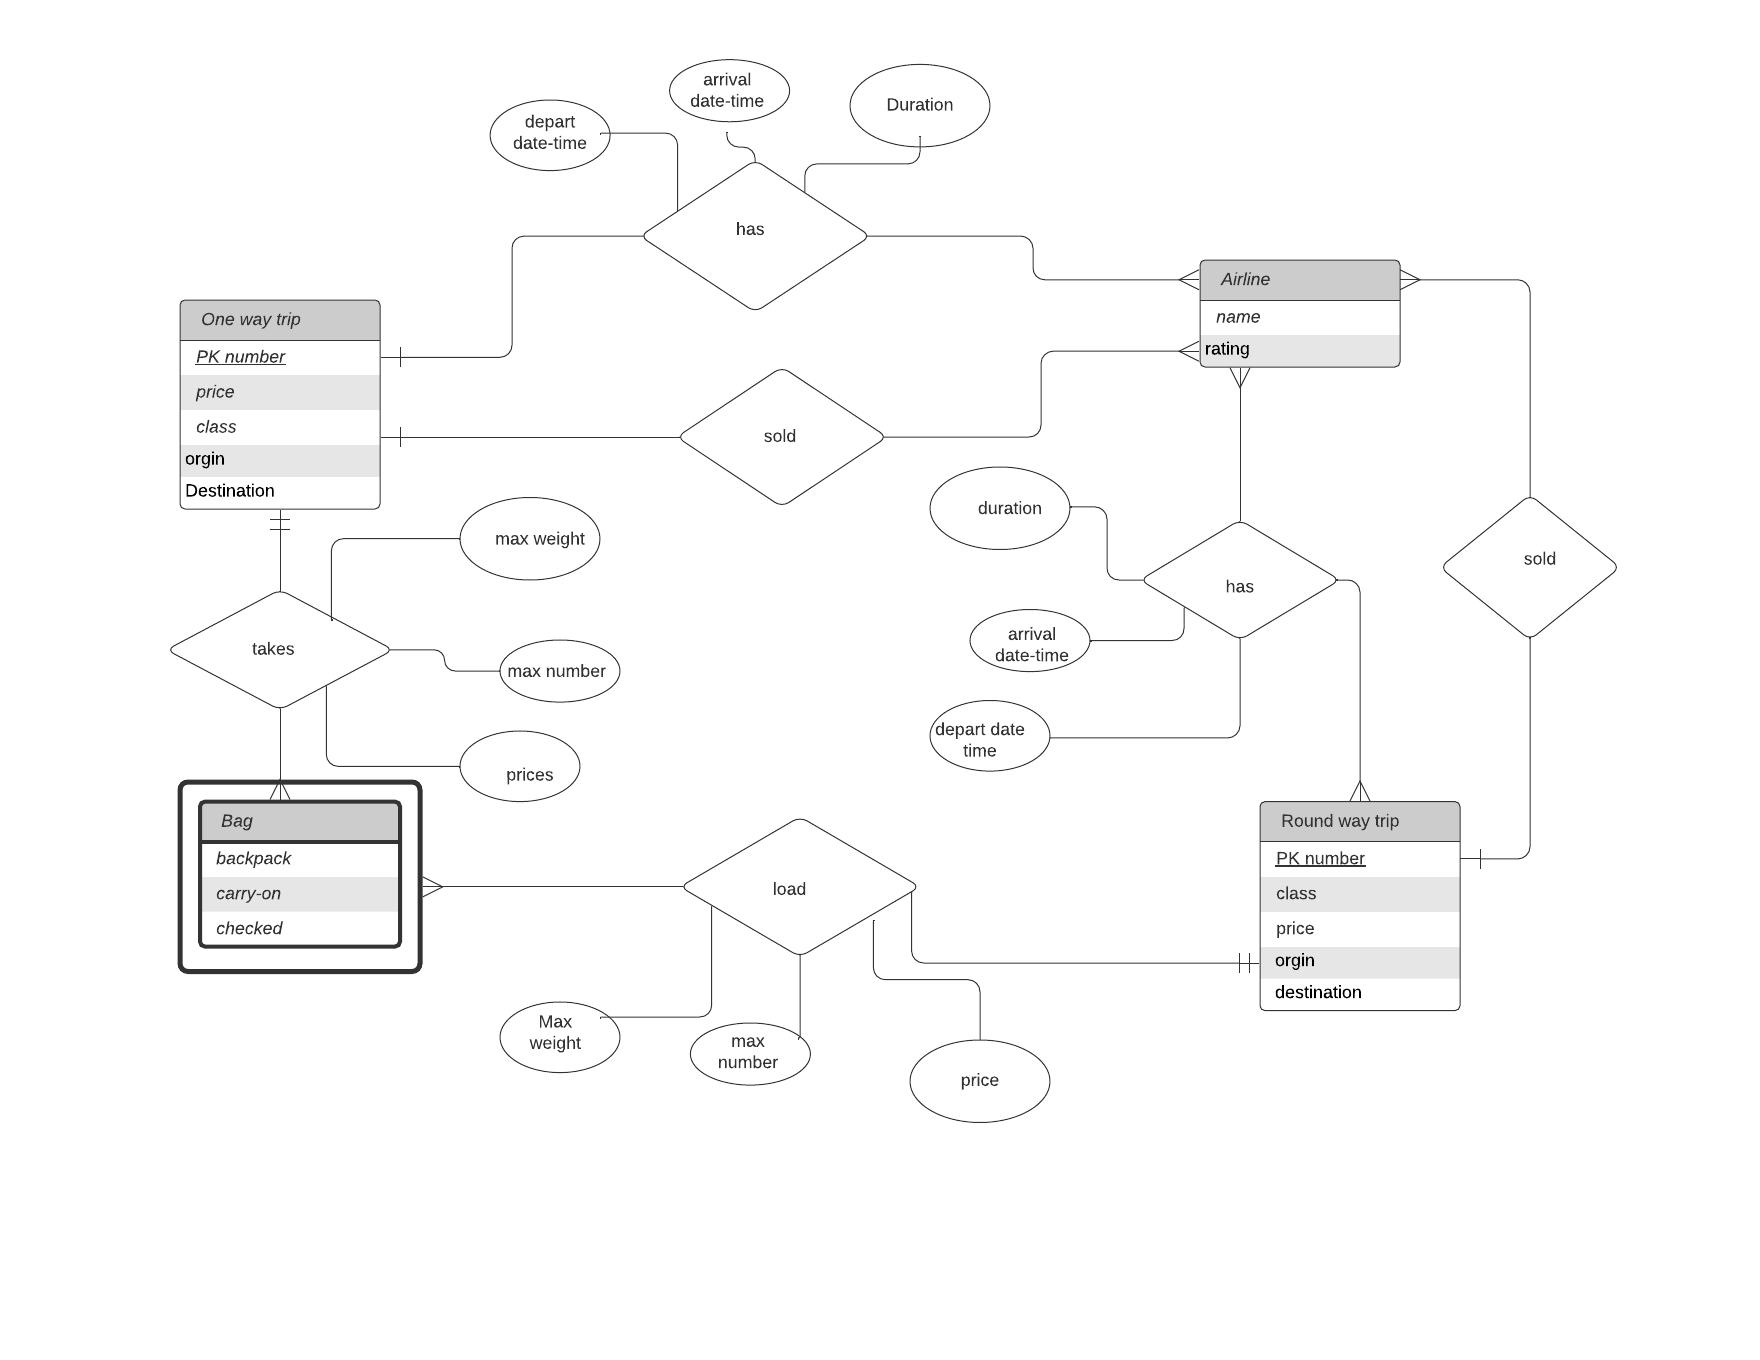attribute: (457, 496, 601, 583), (911, 1036, 1051, 1121), (849, 63, 986, 147), (929, 469, 1066, 551), (489, 100, 613, 174), (461, 733, 583, 809), (499, 1001, 621, 1074), (494, 640, 624, 706), (691, 1019, 813, 1089), (930, 700, 1051, 769), (969, 609, 1091, 674), (670, 59, 789, 126)
entity: (1254, 796, 1463, 1014), (174, 296, 383, 511), (1199, 254, 1404, 371)
relationship: (639, 161, 866, 311), (679, 821, 923, 959), (680, 371, 889, 506), (169, 593, 389, 709), (1439, 494, 1616, 637), (1144, 521, 1339, 640)
weakentity: (173, 777, 421, 979)
